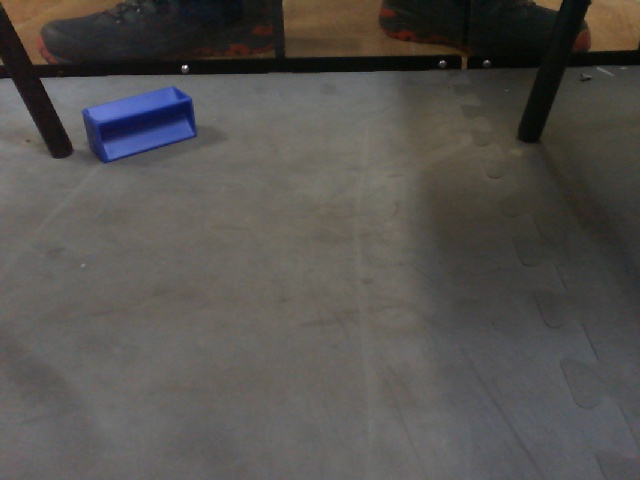BlueSample: (78, 84, 199, 165)
